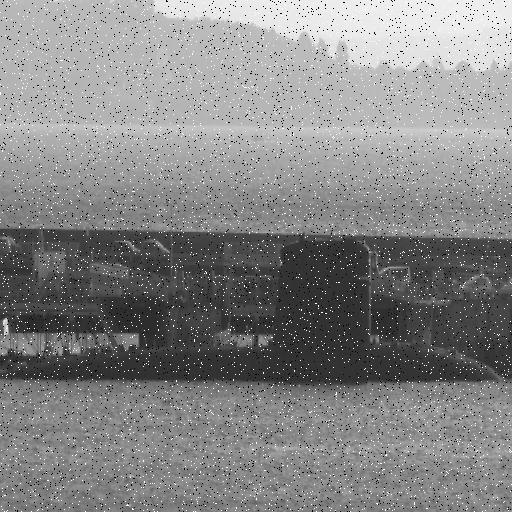submarine: (1, 247, 509, 388)
